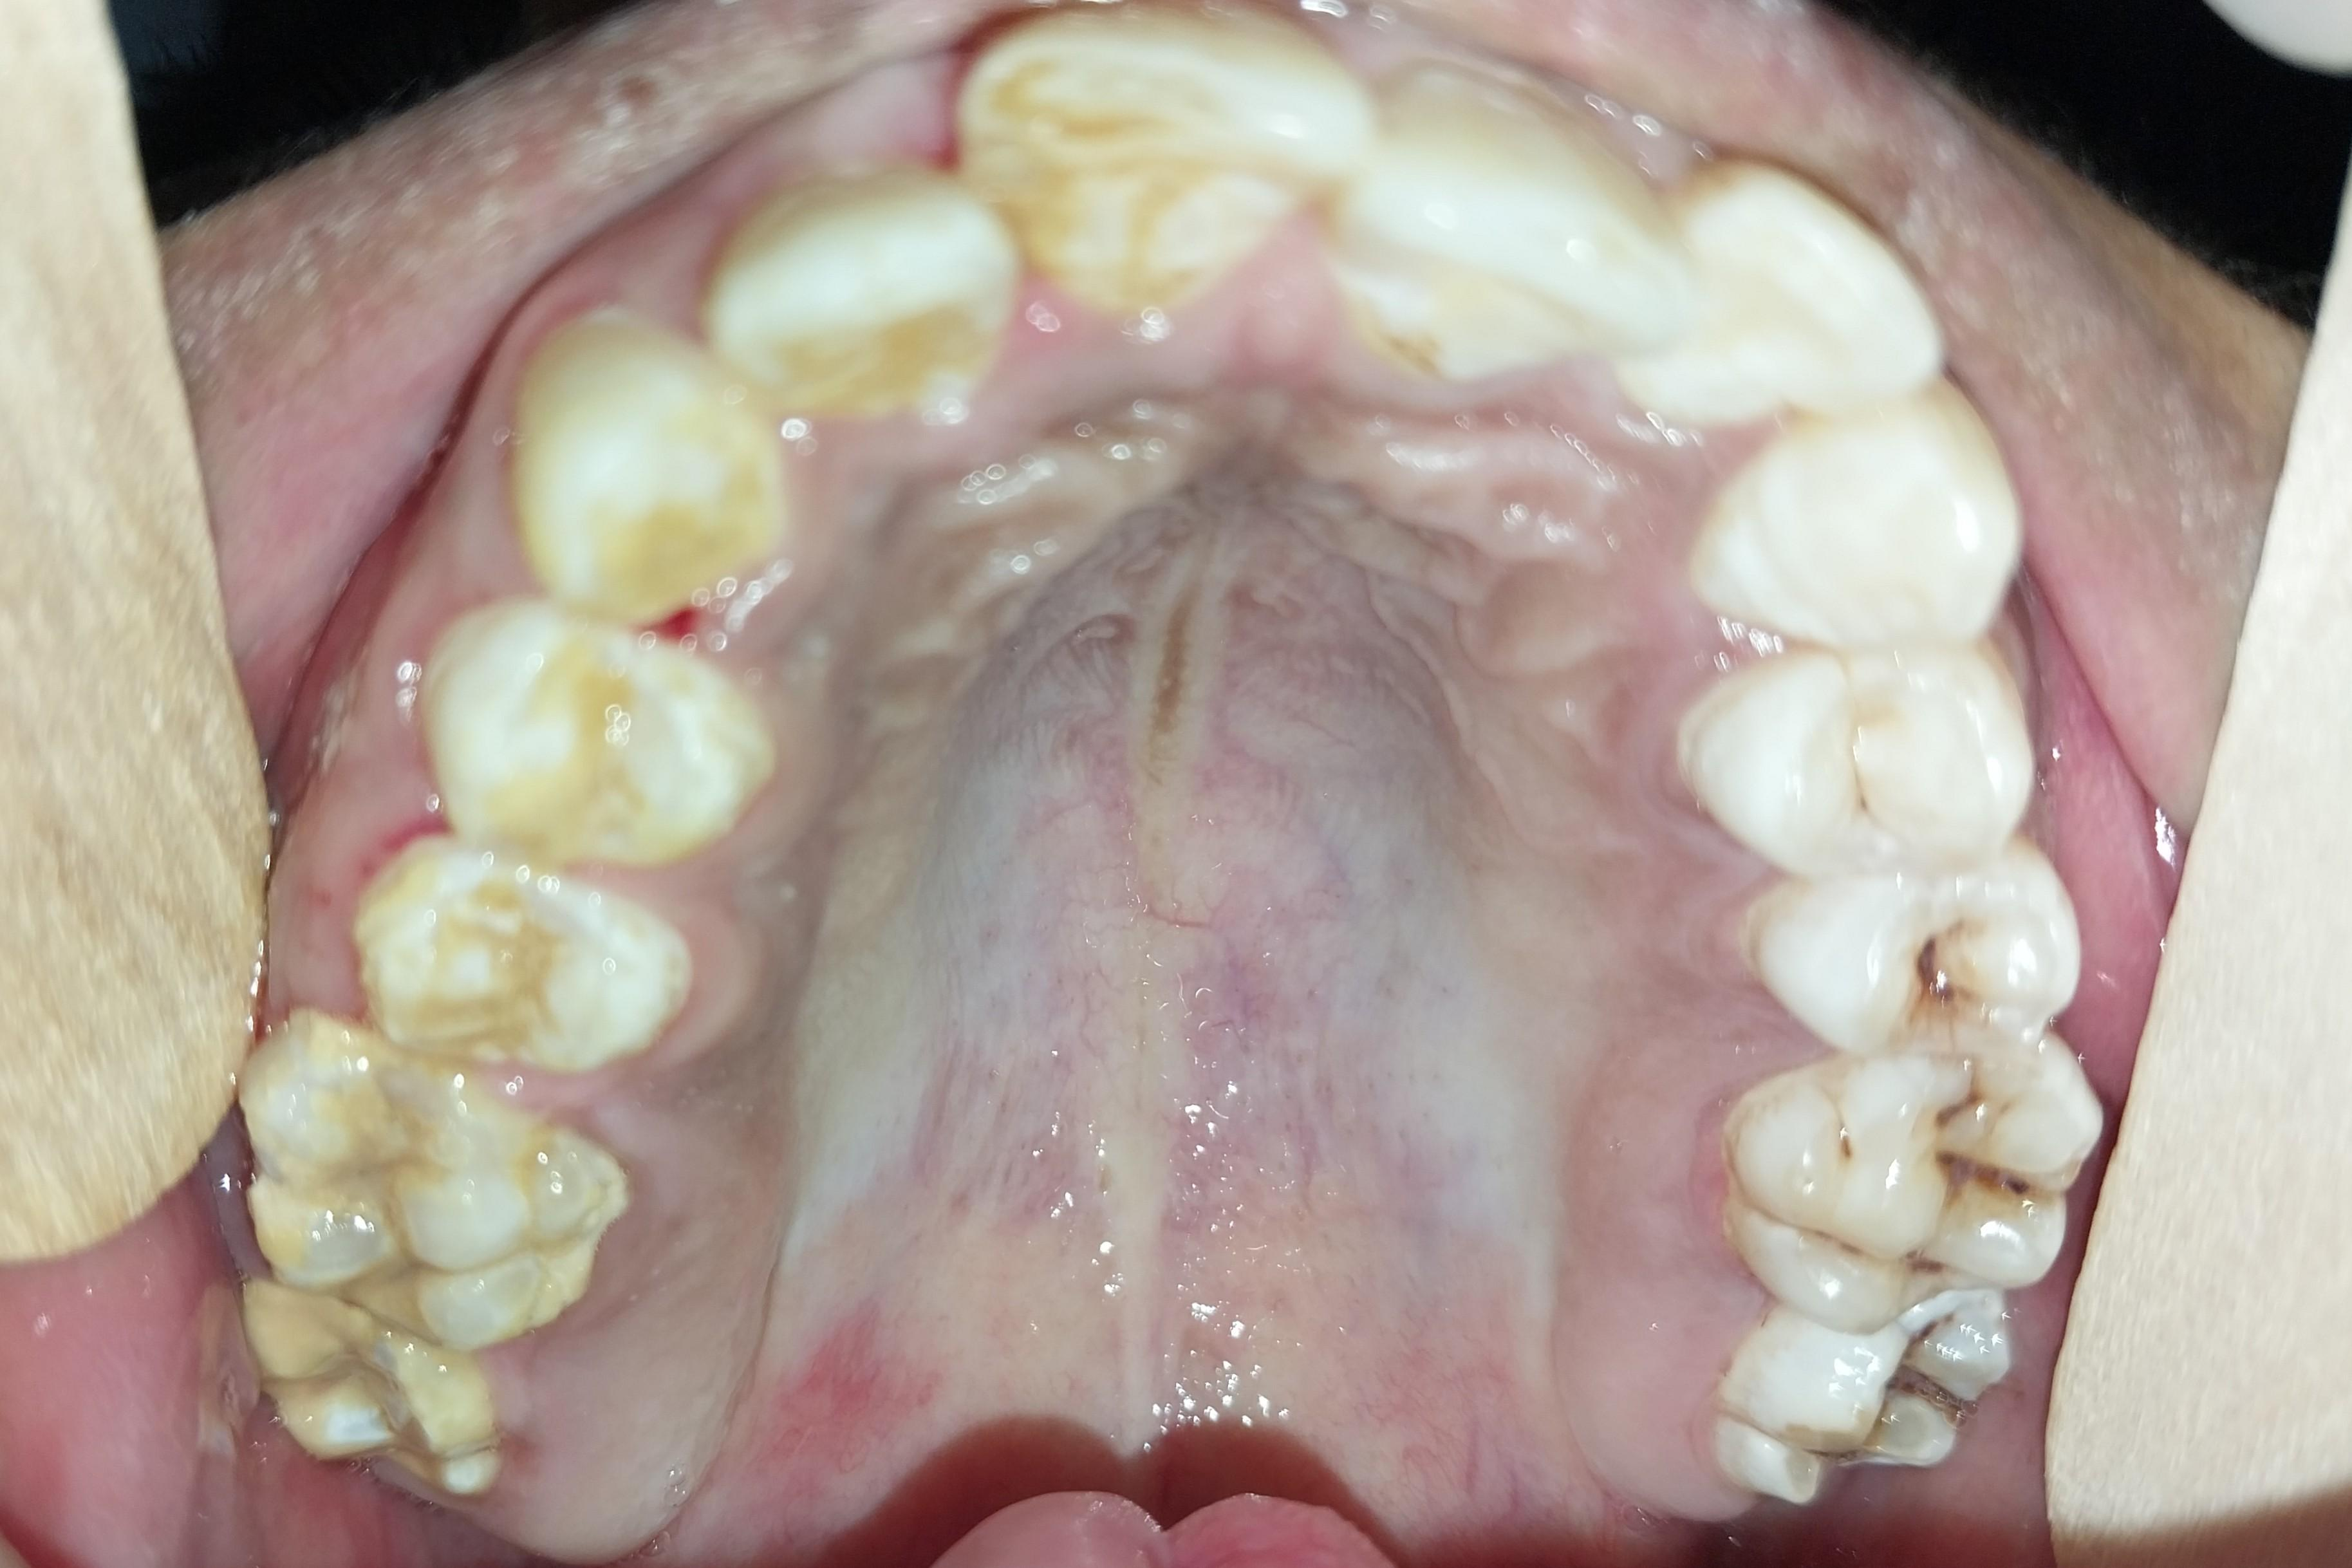D: (1742, 1049, 2091, 1319), (1775, 868, 2082, 1052), (1730, 1313, 2003, 1503)
